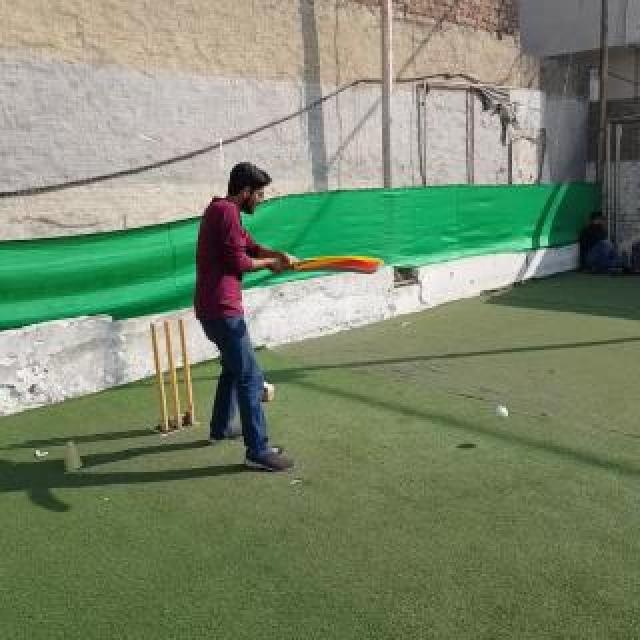ball: (496, 406, 510, 420)
bat: (284, 256, 384, 276)
